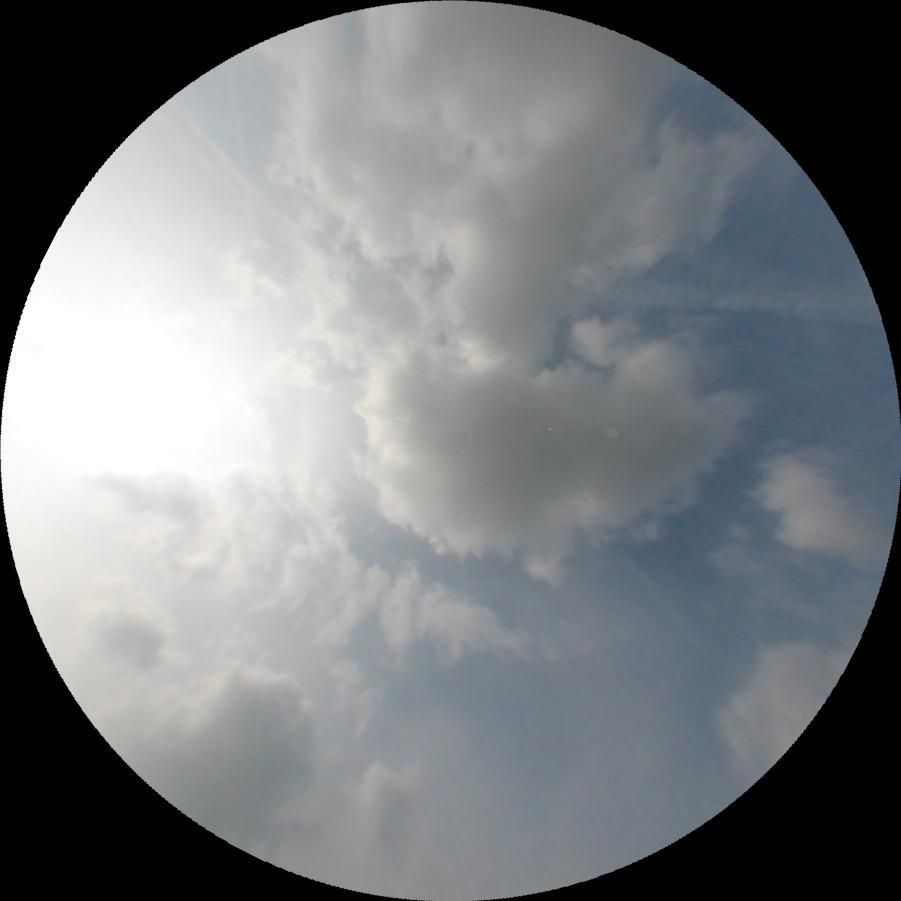contrail veryold: (589, 265, 881, 334)
contrail young: (229, 65, 247, 187)
unknow: (170, 96, 282, 217)
